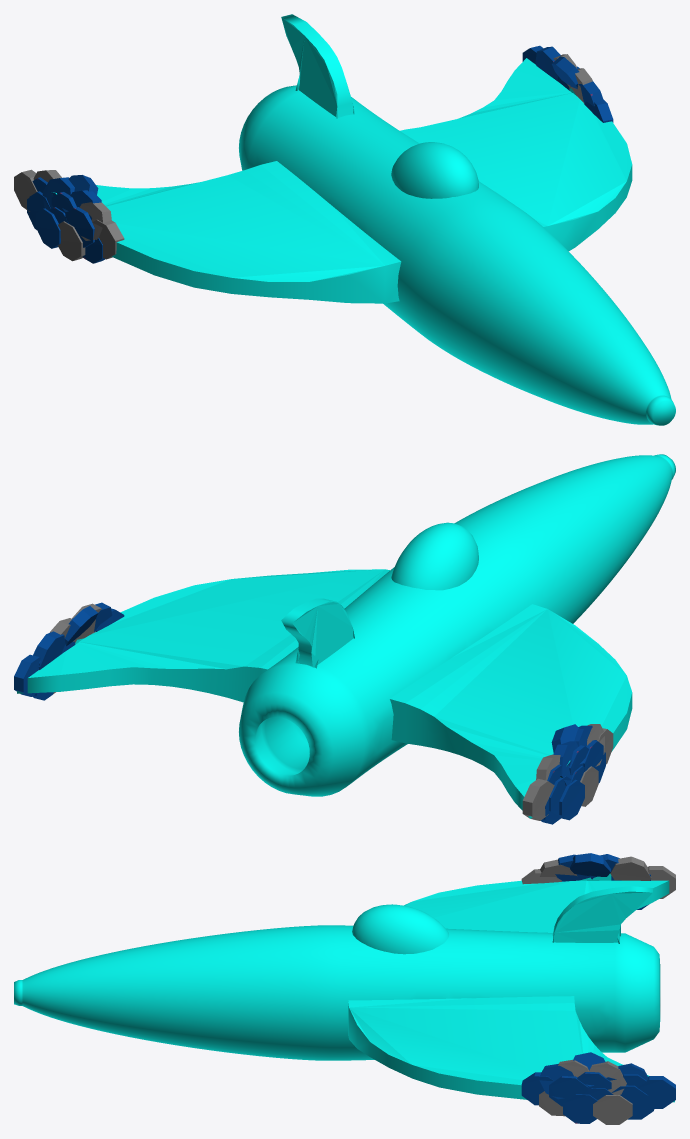
File: stealthCoat.obj
3 renders of one model, top to bottom at view 1: azimuth 30°, elevation 25°; view 2: azimuth 150°, elevation 25°; view 3: azimuth 270°, elevation 25°, orthographic. The views are drawn at different scales.
Parts seen in each view (by area): view 1: coat; view 2: coat; view 3: coat.
Part boxes in pixels (left/top/right/bottom): coat: left=14, top=14, right=675, bottom=425; coat: left=14, top=454, right=675, bottom=824; coat: left=14, top=853, right=675, bottom=1124.
Bounding box in the file's own units: 8.32 × 2.96 × 10.72.
